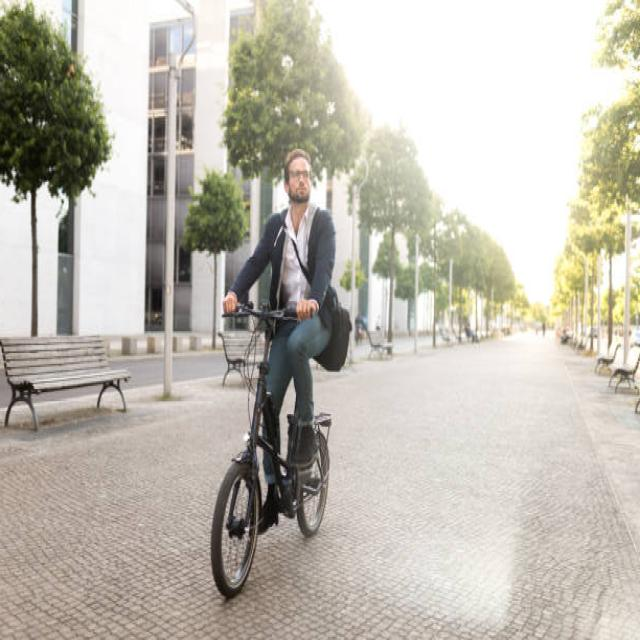bicycle: (212, 150, 351, 597)
